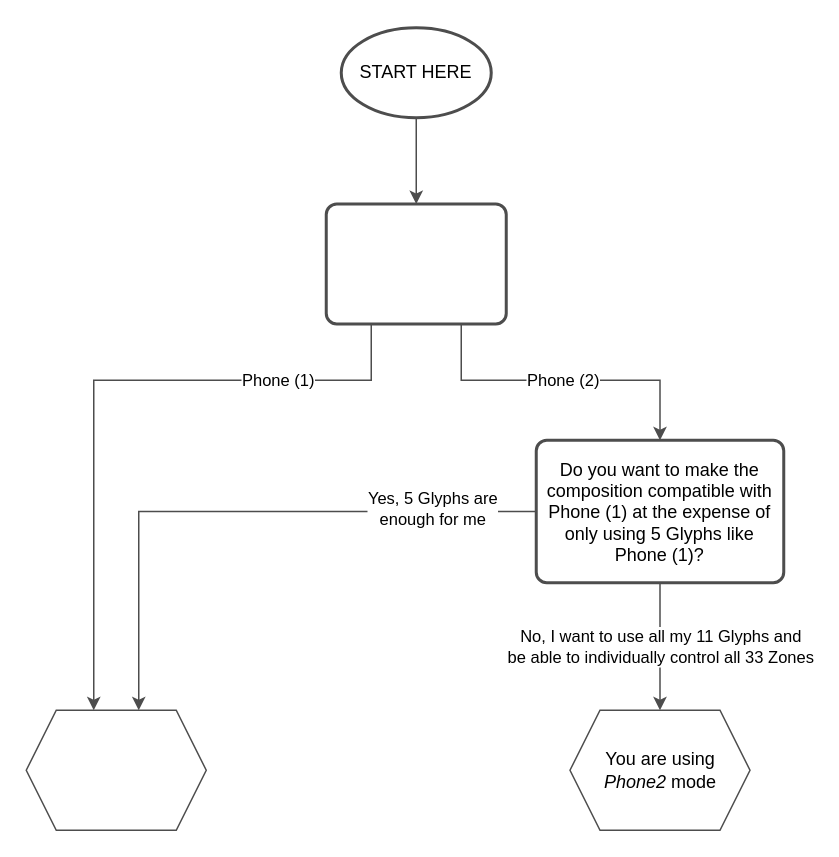
Image size: 839x857. Some labels were removed from this diagram. The centre of each missing label's shape, as x and y in pixels:
"For which Phone?" belongs at (x=415, y=263).
"You are using Compatibility mode" belongs at (x=115, y=769).
